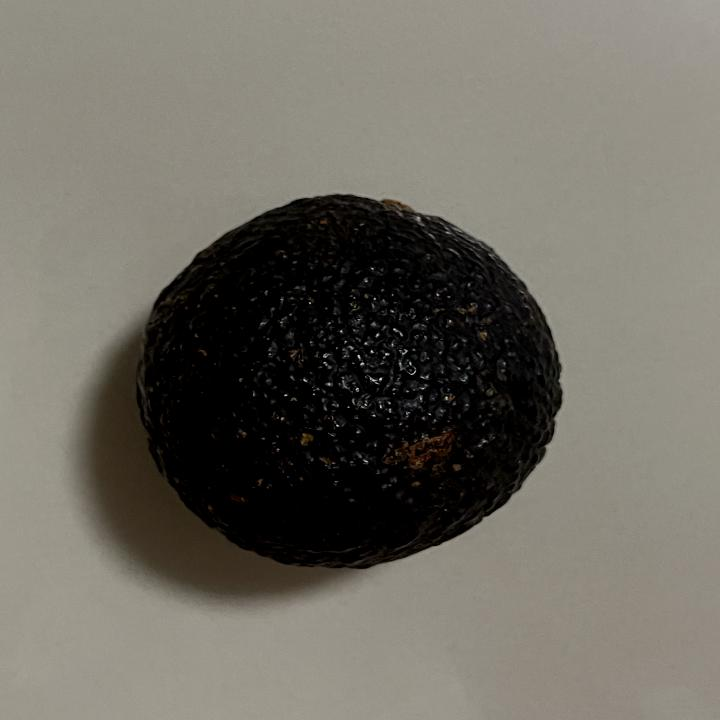Level2: (126, 186, 578, 576)
